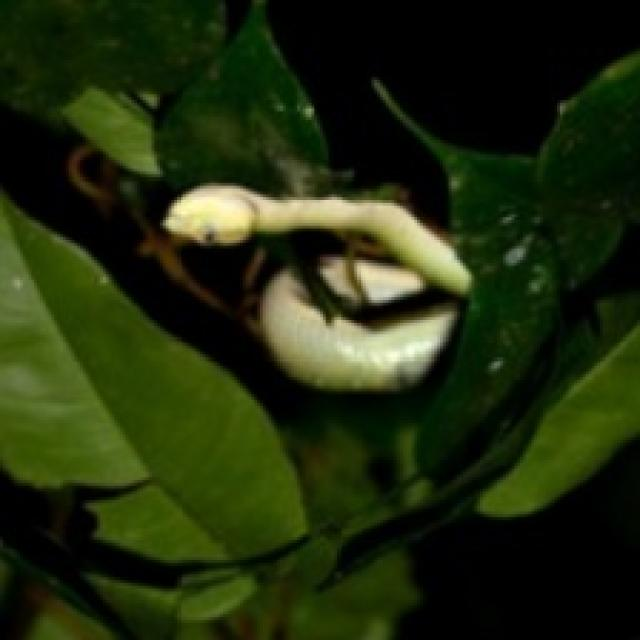north ph temple pitviper: (163, 183, 469, 389), (260, 254, 457, 389)
